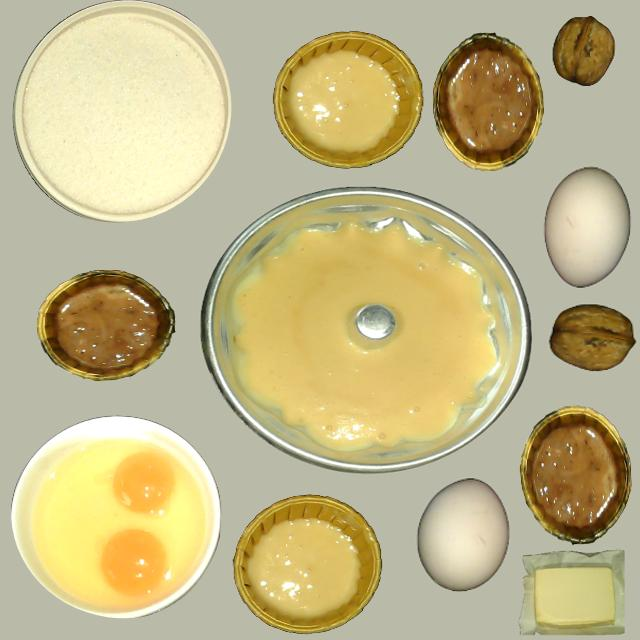Egg: (100, 529, 168, 595), (112, 452, 176, 514)
Sugar: (13, 1, 229, 222)
Walnut: (541, 298, 638, 385), (552, 17, 614, 86)
